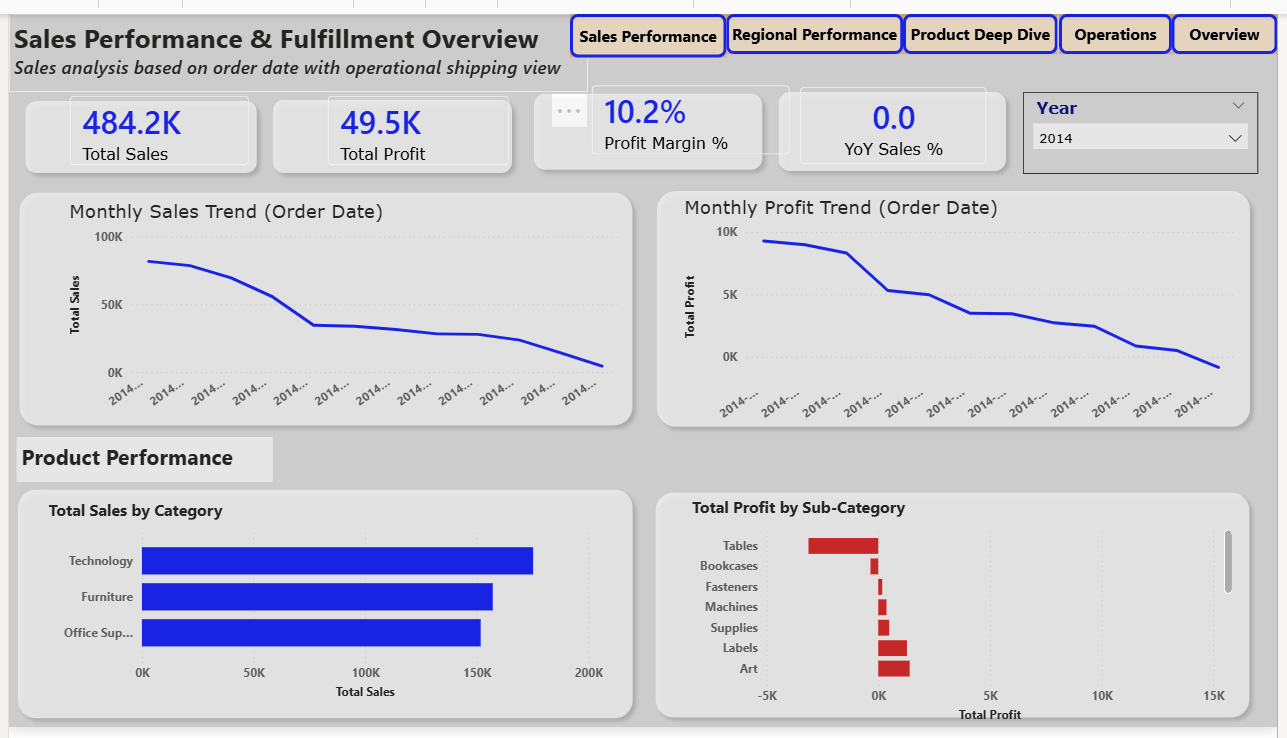

The page's visual inventory and layout, read from the dashboard file:
{"tool":"powerbi","page":{"name":"Page 1","canvas":[1280,720],"ordinal":0},"visuals":[{"type":"textbox","box":[0,0,584.3,78.4],"z":0},{"type":"actionButton","box":[903.5,0,156.1,40.4],"z":0,"group":"g7"},{"type":"actionButton","box":[724.6,0,178.9,40.4],"z":1000,"group":"g7"},{"type":"slicer","fields":{"Values":["DimDate.Year"]},"box":[1023.5,78.4,237.3,82.4],"z":1000},{"type":"actionButton","box":[566.7,0,157.9,43.9],"z":2000,"group":"g7"},{"type":"group","id":"g1","title":"Group 3","box":[520.5,54.7,284.5,114.1],"z":2000},{"type":"actionButton","box":[1173.7,0,107,40.4],"z":3000,"group":"g7"},{"type":"shape","box":[2,170.6,636.9,253.2],"z":3000},{"type":"group","id":"g2","title":"Group 1","box":[7.8,64.7,251,105.9],"z":4000},{"type":"shape","box":[645,170,616.8,256.1],"z":4000,"group":"g4"},{"type":"shape","box":[643.9,473.7,617.5,245.2],"z":4000,"group":"g6"},{"type":"group","id":"g3","title":"Group 2","box":[256.9,64.7,262.7,105.9],"z":5000},{"type":"group","id":"g4","title":"Group 6","box":[645,170,615,256.7],"z":6000},{"type":"actionButton","box":[1059.7,0,114,40.4],"z":6500,"group":"g7"},{"type":"shape","box":[768.4,69.5,247.7,97.9],"z":7000},{"type":"shape","box":[0,470.2,638.6,249.1],"z":7000,"group":"g5"},{"type":"shape","box":[256.9,77,259.5,92.4],"z":8000,"group":"g3"},{"type":"lineChart","title":"Monthly Sales Trend (Order Date)","fields":{"Category":["DimDate.Year-Month"],"Y":["_Measures.Total Sales"]},"box":[55.4,187.1,563.9,221.5],"z":8000},{"type":"shape","box":[520.5,71.2,248.5,95.1],"z":9000,"group":"g8"},{"type":"textbox","box":[7.8,427.5,258.8,45.1],"z":9000},{"type":"cardVisual","fields":{"Data":["_Measures.Sales YoY % (Card)"]},"box":[780.7,56.1,222.8,112.3],"z":10000},{"type":"cardVisual","fields":{"Data":["_Measures.Total Profit"]},"box":[303.8,64.7,217.3,104.7],"z":10000,"group":"g3"},{"type":"shape","box":[7.8,78.8,251.6,90.7],"z":10000,"group":"g2"},{"type":"cardVisual","fields":{"Data":["_Measures.Profit Margin %"]},"box":[570.5,54.7,234.4,104.6],"z":11000,"group":"g8"},{"type":"cardVisual","fields":{"Data":["_Measures.Total Sales"]},"box":[43.7,64.7,215.7,104.7],"z":11000,"group":"g2"},{"type":"group","id":"g5","title":"Group 5","box":[0,470.2,638.6,249.1],"z":11000},{"type":"clusteredBarChart","fields":{"Y":["_Measures.Total Profit"],"Category":["DimProduct.Sub-Category"]},"box":[684.1,486.2,554.9,233.1],"z":11000,"group":"g6"},{"type":"lineChart","title":"Monthly Profit Trend (Order Date)","fields":{"Category":["DimDate.Year-Month"],"Y":["_Measures.Total Profit"]},"box":[677,184.2,565.5,237.6],"z":12000,"group":"g4"},{"type":"group","id":"g6","title":"Group 7","box":[643.9,473.7,617.5,245.6],"z":12000},{"type":"group","id":"g7","title":"Nav_button","box":[566.7,0,714,43.9],"z":13000},{"type":"clusteredBarChart","fields":{"Category":["DimProduct.Category"],"Y":["_Measures.Total Sales"]},"box":[34.5,488.7,569.6,207],"z":13000,"group":"g5"},{"type":"group","id":"g8","title":"Group 9","box":[520.5,54.7,284.5,111.6],"z":13004,"group":"g1"}]}

Visuals, with their boxes in screenshot pixels (x1, y1, x2, y2), scaled from the page's 1280x720 canvas onto the 1287x738 screenshot:
textbox: bbox=(0, 0, 587, 80)
actionButton: bbox=(908, 0, 1065, 41)
actionButton: bbox=(729, 0, 908, 41)
slicer - DimDate.Year: bbox=(1029, 80, 1268, 165)
actionButton: bbox=(570, 0, 729, 45)
"Group 3" group: bbox=(523, 56, 809, 173)
actionButton: bbox=(1180, 0, 1286, 41)
shape: bbox=(2, 175, 642, 434)
"Group 1" group: bbox=(8, 66, 260, 175)
shape: bbox=(649, 174, 1269, 437)
shape: bbox=(647, 486, 1268, 737)
"Group 2" group: bbox=(258, 66, 522, 175)
"Group 6" group: bbox=(649, 174, 1267, 437)
actionButton: bbox=(1065, 0, 1180, 41)
shape: bbox=(773, 71, 1022, 172)
shape: bbox=(0, 482, 642, 737)
shape: bbox=(258, 79, 519, 174)
"Monthly Sales Trend (Order Date)" lineChart: bbox=(56, 192, 623, 419)
shape: bbox=(523, 73, 773, 170)
textbox: bbox=(8, 438, 268, 484)
cardVisual - _Measures.Sales YoY % (Card): bbox=(785, 58, 1009, 173)
cardVisual - _Measures.Total Profit: bbox=(305, 66, 524, 174)
shape: bbox=(8, 81, 261, 174)
cardVisual - _Measures.Profit Margin %: bbox=(574, 56, 809, 163)
cardVisual - _Measures.Total Sales: bbox=(44, 66, 261, 174)
"Group 5" group: bbox=(0, 482, 642, 737)
clusteredBarChart - _Measures.Total Profit x DimProduct.Sub-Category: bbox=(688, 498, 1246, 737)
"Monthly Profit Trend (Order Date)" lineChart: bbox=(681, 189, 1249, 432)
"Group 7" group: bbox=(647, 486, 1268, 737)
"Nav_button" group: bbox=(570, 0, 1286, 45)
clusteredBarChart - DimProduct.Category x _Measures.Total Sales: bbox=(35, 501, 607, 713)
"Group 9" group: bbox=(523, 56, 809, 170)
